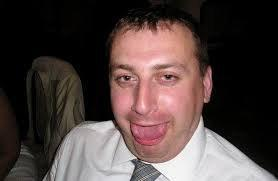Drunk: (109, 30, 194, 154)
